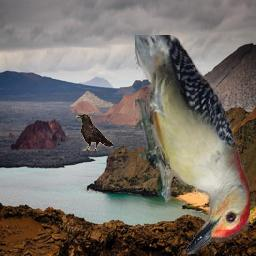Crow: (75, 115, 113, 152)
Woodpecker: (136, 36, 251, 255)
